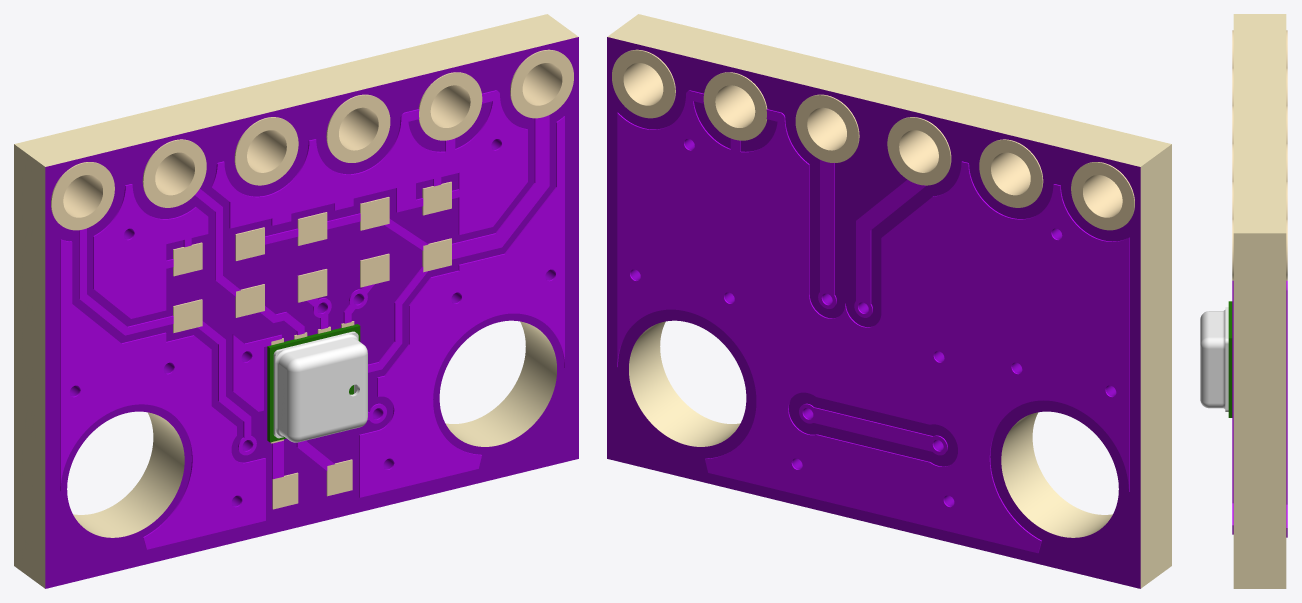
Rendered from bme.glb.
3 views of the same model, side by side, from view 1: azimuth 30°, elevation 25°; view 2: azimuth 150°, elevation 25°; view 3: azimuth 270°, elevation 25° (orthographic). The views are drawn at different scales.
Visible parts, largest first — view 1: Bme280 PCB; view 2: Bme280 PCB; view 3: Bme280 PCB.
Part boxes in pixels (x1,y1,x2,y2): Bme280 PCB: (14,14,578,588); Bme280 PCB: (607,14,1171,588); Bme280 PCB: (1200,14,1287,588).
Size of the model in its own units: 0.0148 by 0.0111 by 0.00248.
